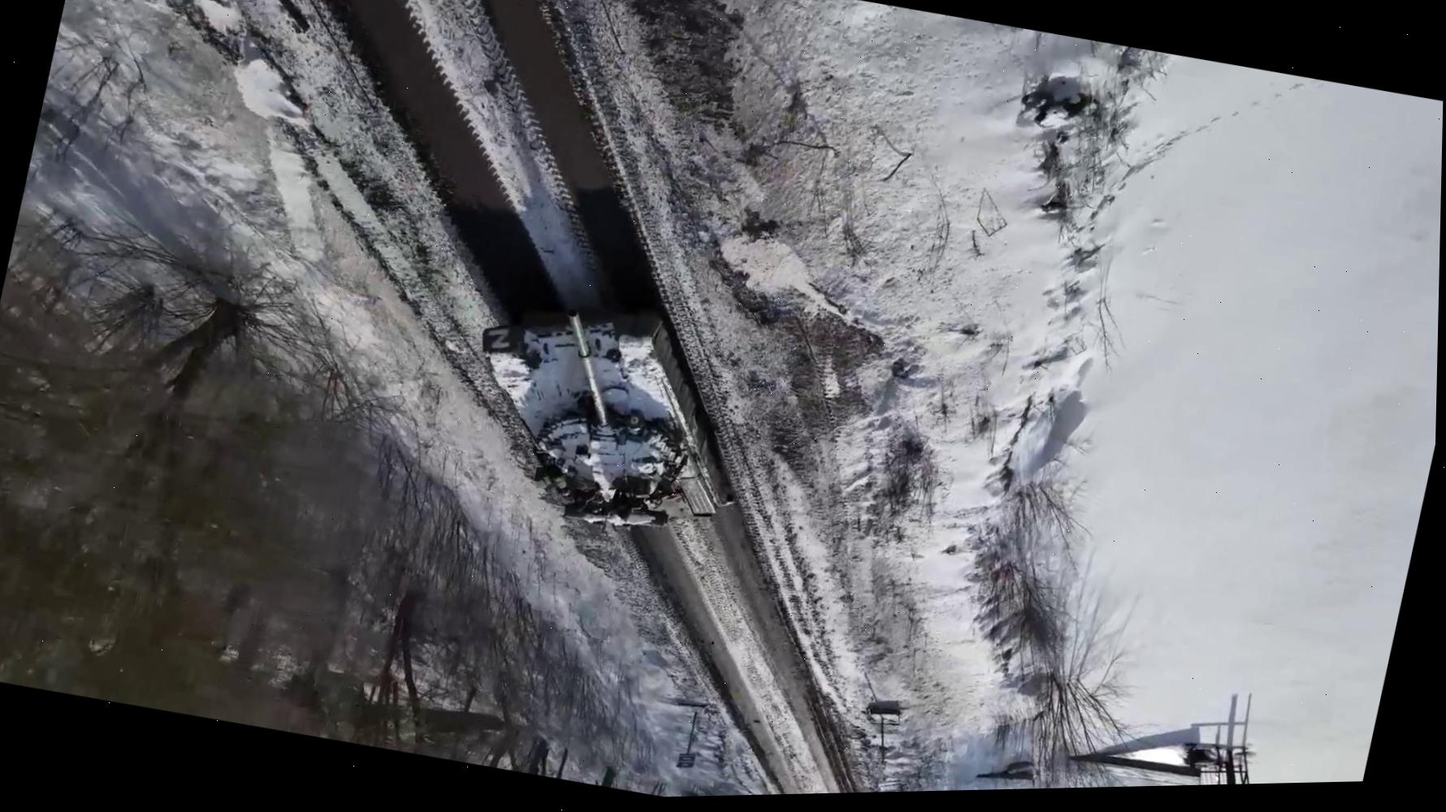tank: (442, 274, 761, 555)
